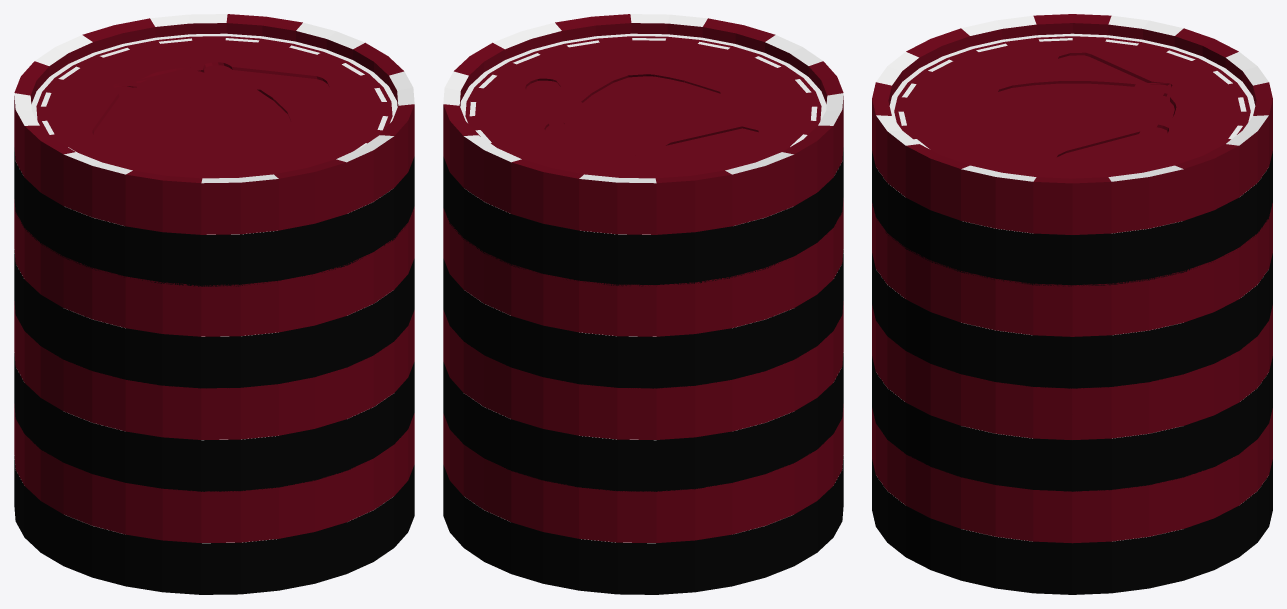
Rendered from poker chip 7 stack (plain).fbx.
The picture shows the model from 3 angles, left to right: view 1: azimuth 30°, elevation 25°; view 2: azimuth 150°, elevation 25°; view 3: azimuth 270°, elevation 25°; orthographic projection.
Visible parts, largest first — view 1: Cylinder.005; view 2: Cylinder.005; view 3: Cylinder.005.
Boxes of the visible parts, box(x1,y1,x2,y2) form: Cylinder.005: box(14, 14, 414, 594); Cylinder.005: box(443, 14, 843, 594); Cylinder.005: box(872, 14, 1272, 594).
Bounding box in the file's own units: 200 × 226 × 200.
